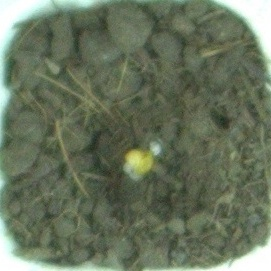chilli seed: (120, 146, 157, 177)
